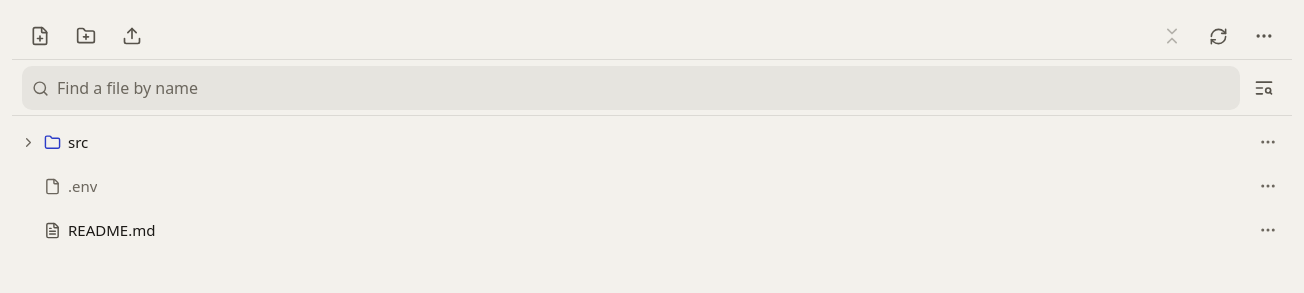
Test: the files panel › filters by name through the server's search and shows the branches that lead to a match
expect the element showing "src .env README.md" is shown: met, box [12,116,1292,276]
In the search field labelled "Find a file by name": point(646, 88) [57,66,1236,110], type "app"
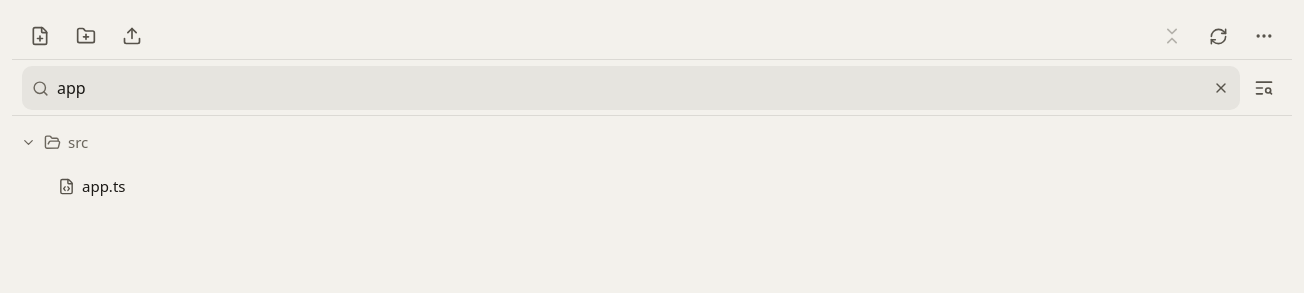
expect the button with aria-label "src, folder" is shown: met, box [12,120,1290,164]
expect the button "app.ts" is shown: met, box [12,164,1290,208]
expect the list item "README.md" is gone: met
